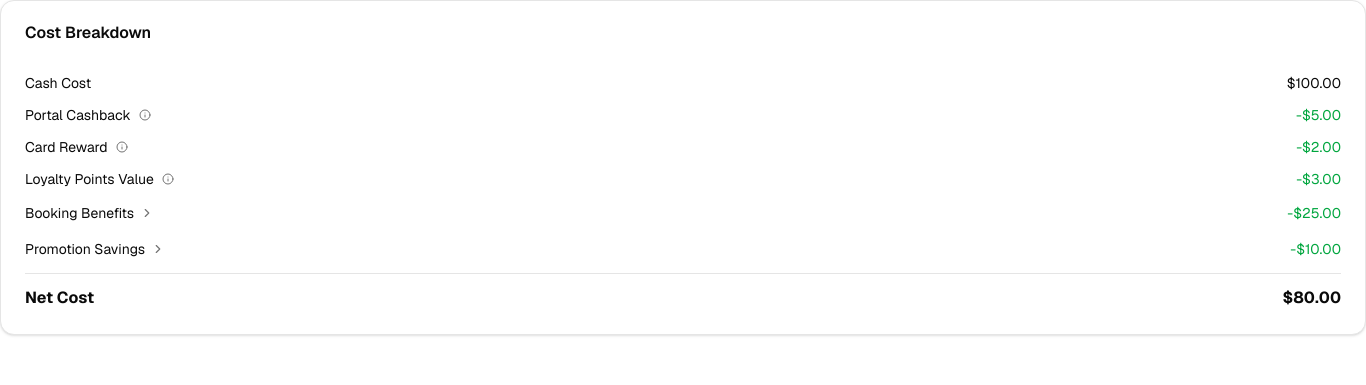
Test: CostBreakdown › Booking Benefits toggle is a button for keyboard accessibility
The width and height of the screenshot is (1366, 385).
Click the button with test id "breakdown-benefits-toggle" at (80, 213), box [25, 201, 1341, 225]
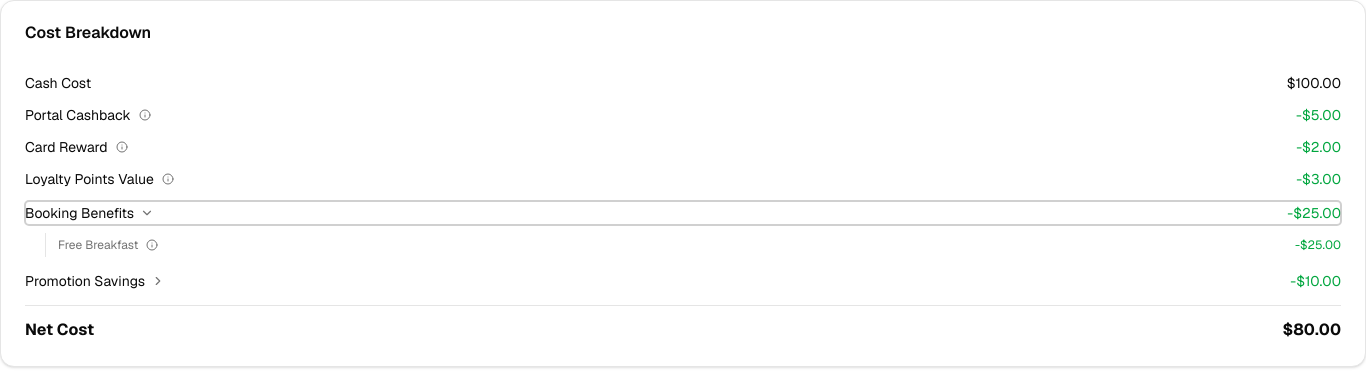
Now the element with test id "breakdown-benefits-list" is shown, box [45, 233, 1341, 257]
